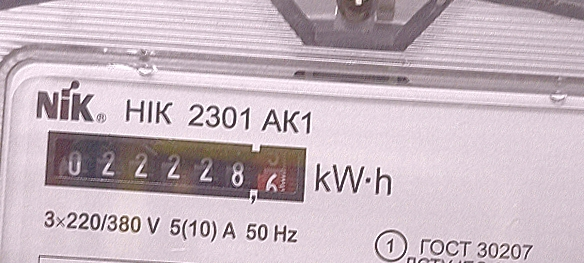0: (64, 147, 82, 177)
2: (97, 147, 117, 178), (163, 151, 182, 180), (196, 155, 215, 184), (131, 150, 149, 179)
5: (264, 147, 281, 168)
6: (262, 170, 280, 192)
8: (228, 159, 245, 188)
screen: (35, 119, 316, 211)
